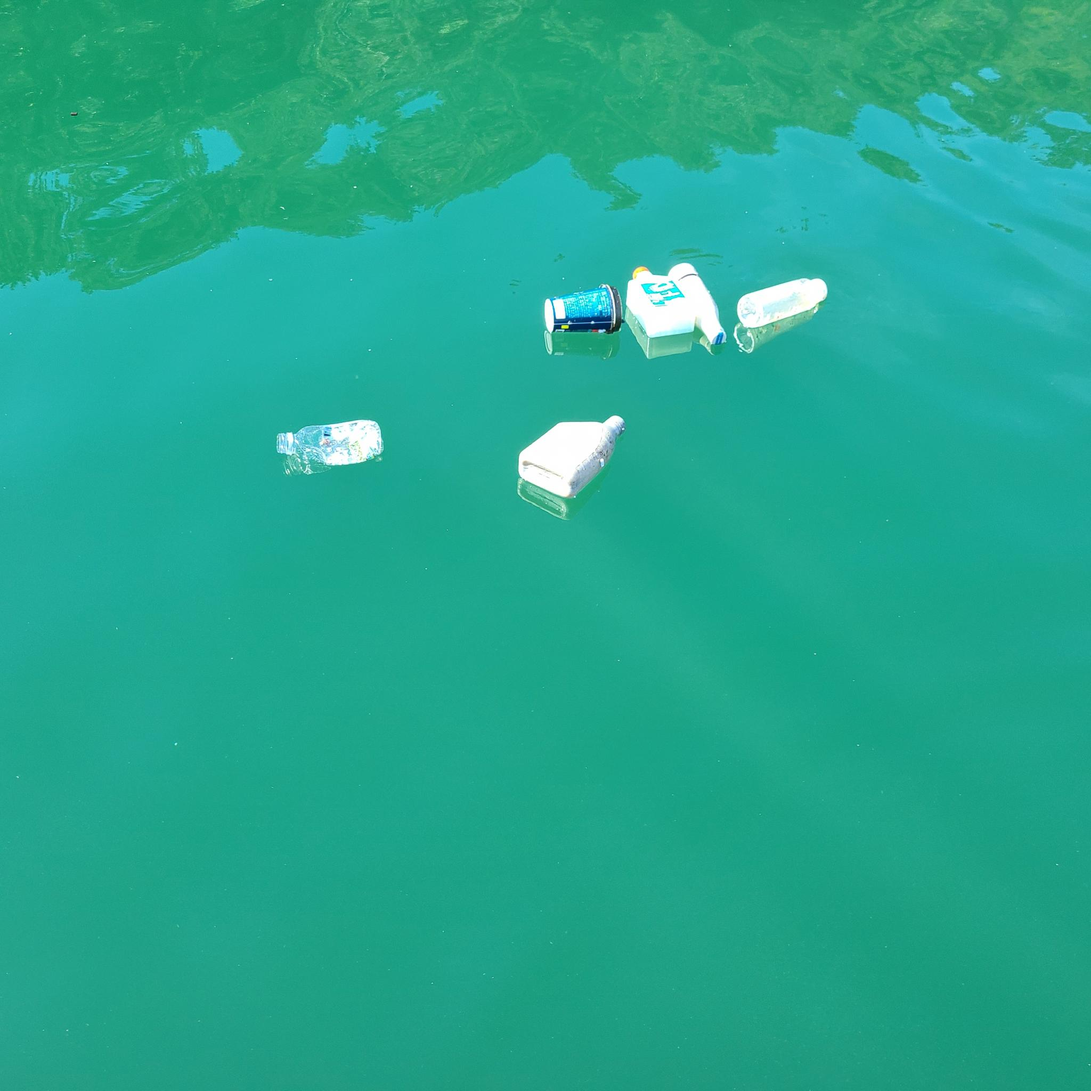sampah_terapung: (519, 416, 626, 499), (667, 263, 728, 345), (625, 267, 695, 338), (276, 420, 381, 466), (737, 279, 828, 329), (544, 284, 623, 336)
